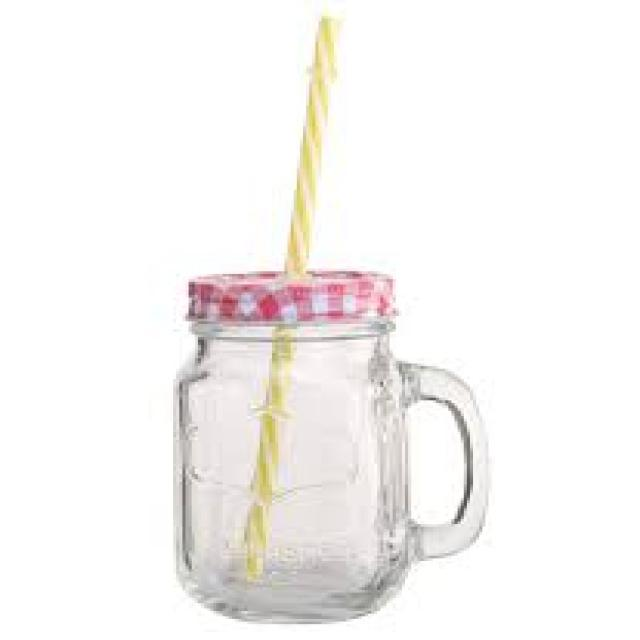glass: (177, 316, 483, 619)
metal: (186, 271, 390, 319)
